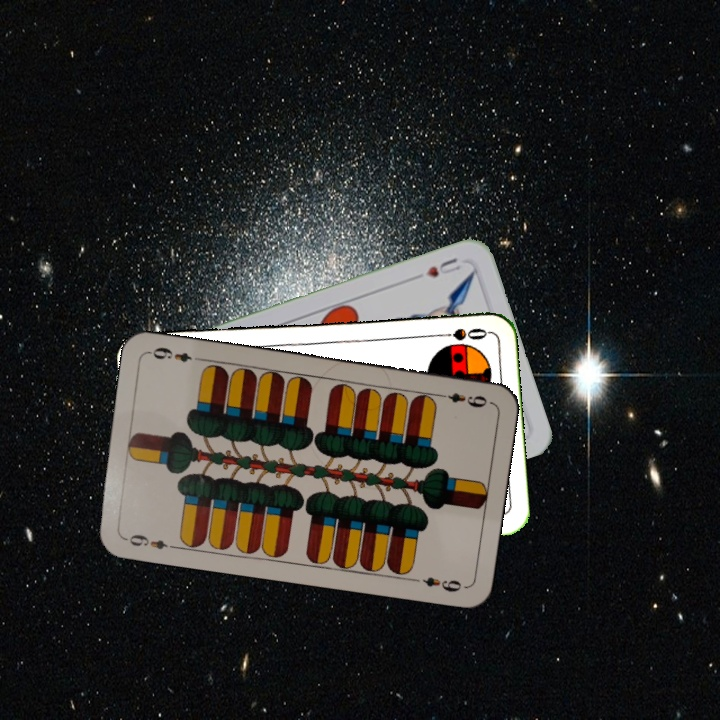E9: (434, 389, 493, 411), (120, 530, 179, 552)
HU: (422, 253, 463, 280)
SO: (431, 323, 490, 343)
